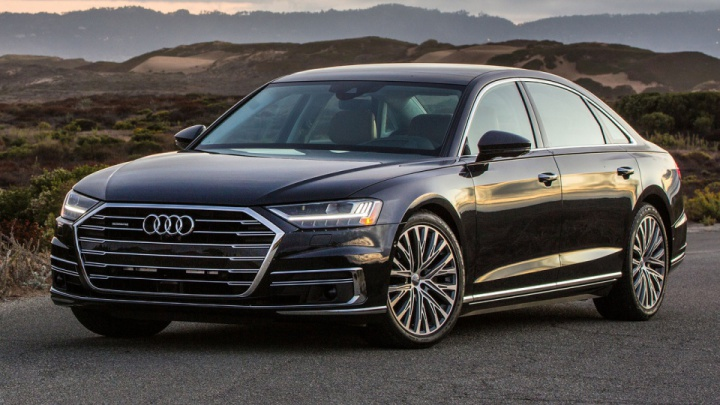audi: (135, 209, 201, 248)
